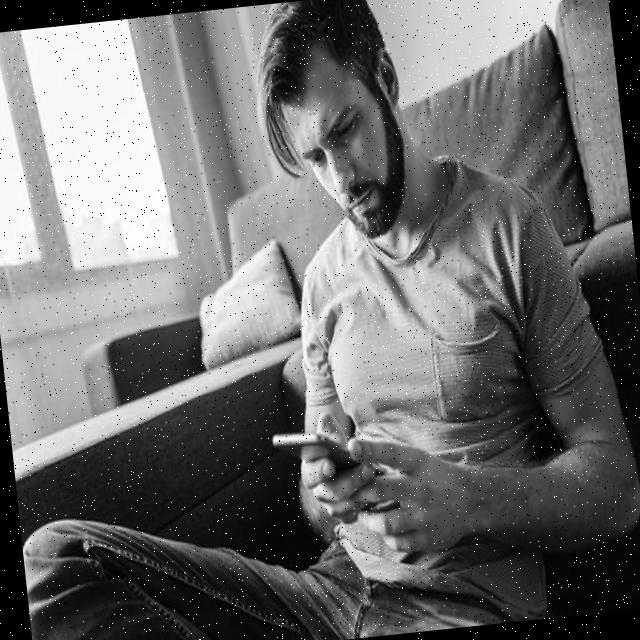Sadness: (281, 66, 399, 244)
